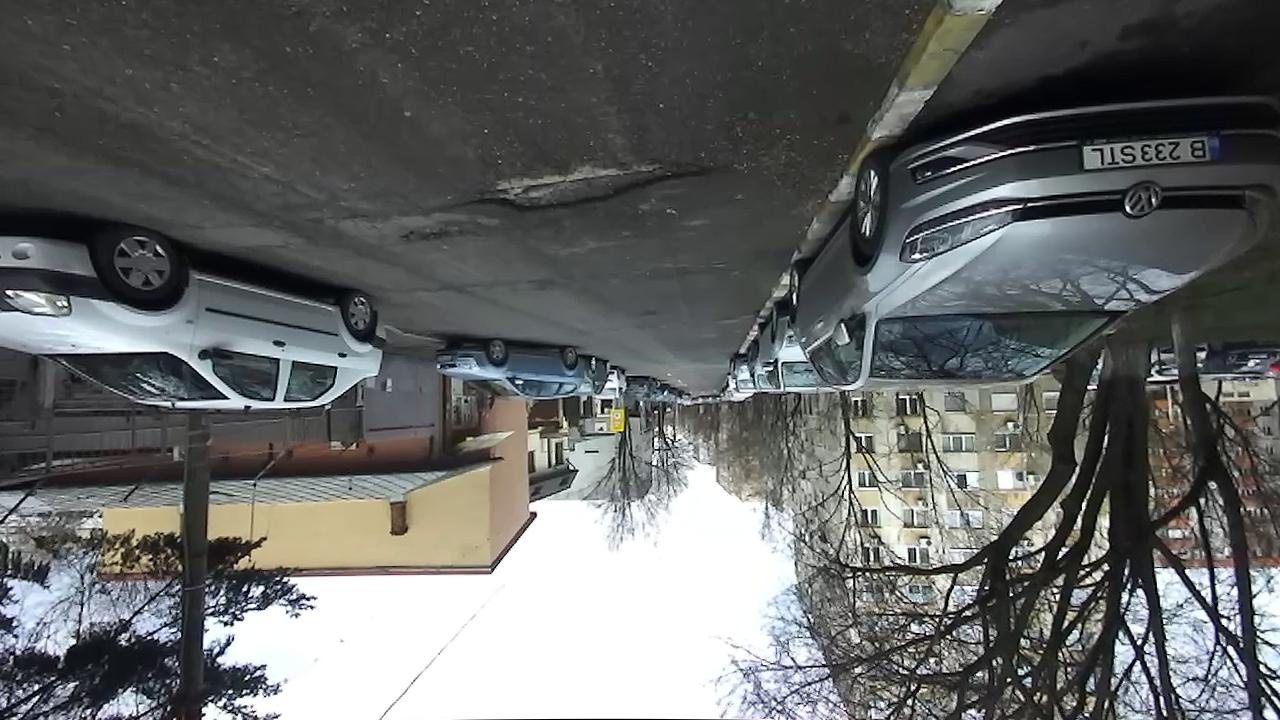pothole: (450, 158, 730, 217), (388, 223, 483, 249)
